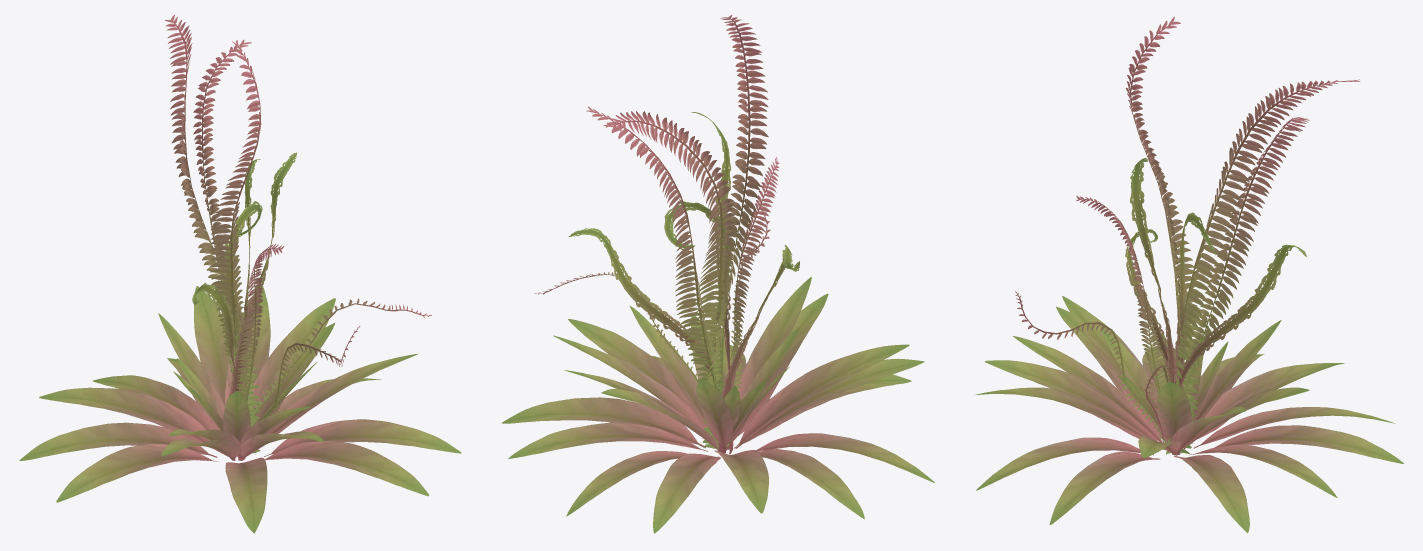
3 renders of one model, left to right at view 1: azimuth 30°, elevation 25°; view 2: azimuth 150°, elevation 25°; view 3: azimuth 270°, elevation 25°, orthographic. The views are drawn at different scales.
Parts seen in each view (by area): view 1: SM_DR_SwampFern_03_LOD0; view 2: SM_DR_SwampFern_03_LOD0; view 3: SM_DR_SwampFern_03_LOD0.
Boxes of the visible parts, left/top/right/bottom form: SM_DR_SwampFern_03_LOD0: left=19, top=15, right=461, bottom=533; SM_DR_SwampFern_03_LOD0: left=502, top=15, right=934, bottom=533; SM_DR_SwampFern_03_LOD0: left=975, top=16, right=1403, bottom=533.
Bounding box in the file's own units: 1.35 × 1.41 × 1.28.
1 material, 1 textured.
